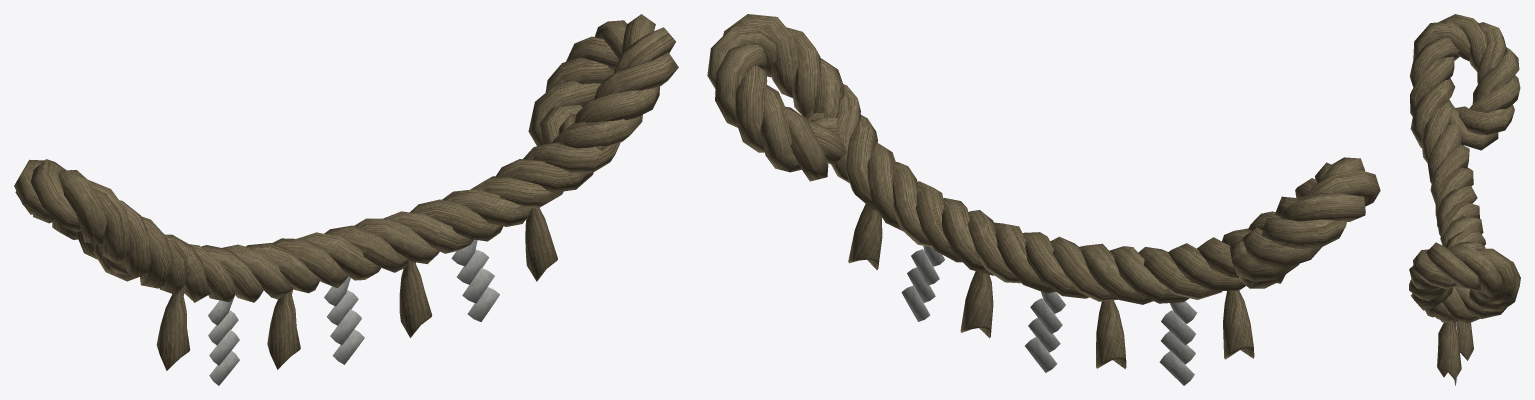
Rendered from Simenawa_Tori.fbx.
3 views of the same model, side by side, from view 1: azimuth 30°, elevation 25°; view 2: azimuth 150°, elevation 25°; view 3: azimuth 270°, elevation 25° (orthographic). The views are drawn at different scales.
Visible parts, largest first — view 1: Simenawa_Tori; view 2: Simenawa_Tori; view 3: Simenawa_Tori.
Boxes of the visible parts, x1,y1,x2,y2 form: Simenawa_Tori: [14, 14, 678, 385]; Simenawa_Tori: [707, 14, 1380, 385]; Simenawa_Tori: [1409, 14, 1520, 385].
Bounding box in the file's own units: 2.94 × 1.19 × 0.56.
